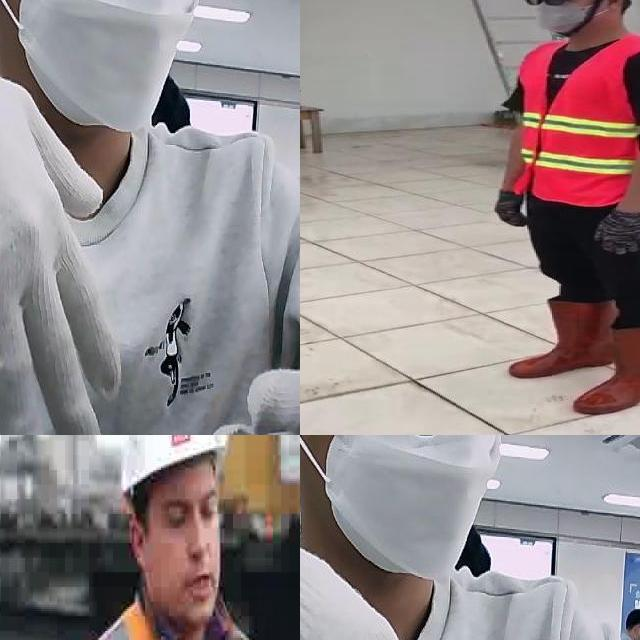BOOTS: (511, 302, 616, 379), (577, 323, 640, 417)
GLASS: (518, 0, 599, 5)
GLOVE: (0, 0, 120, 435), (201, 207, 300, 435), (592, 205, 640, 253), (494, 184, 531, 230)
HELMET: (119, 435, 225, 497)
VEST: (509, 38, 640, 205)
